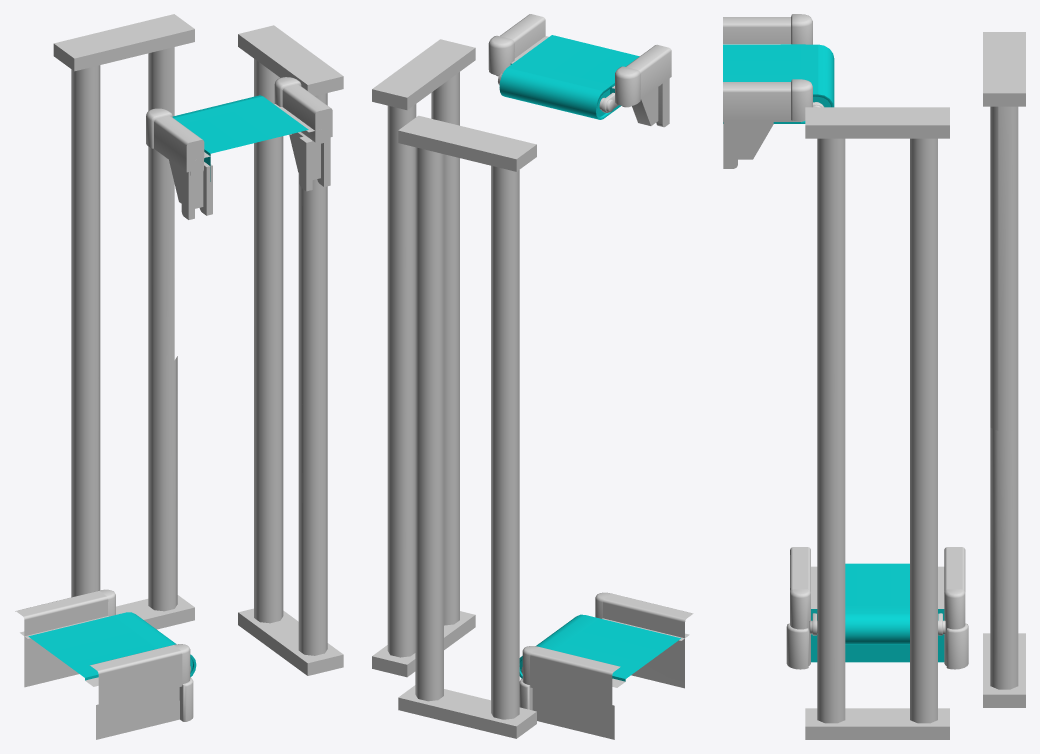
Rendered from Lift2DownLeftInternalVariant.gltf.
The picture shows the model from 3 angles, left to right: view 1: azimuth 30°, elevation 25°; view 2: azimuth 150°, elevation 25°; view 3: azimuth 270°, elevation 25°; orthographic projection. The views are drawn at different scales.
Parts seen in each view (by area): view 1: Lift_2DownLeft_Layer0_LOD0; view 2: Lift_2DownLeft_Layer0_LOD0; view 3: Lift_2DownLeft_Layer0_LOD0.
Boxes of the visible parts, x1,y1,x2,y2 form: Lift_2DownLeft_Layer0_LOD0: (15,14,343,739); Lift_2DownLeft_Layer0_LOD0: (372,14,693,739); Lift_2DownLeft_Layer0_LOD0: (723,14,1025,739).
Size of the model in its own units: 0.9812 by 2.27 by 0.9812.
